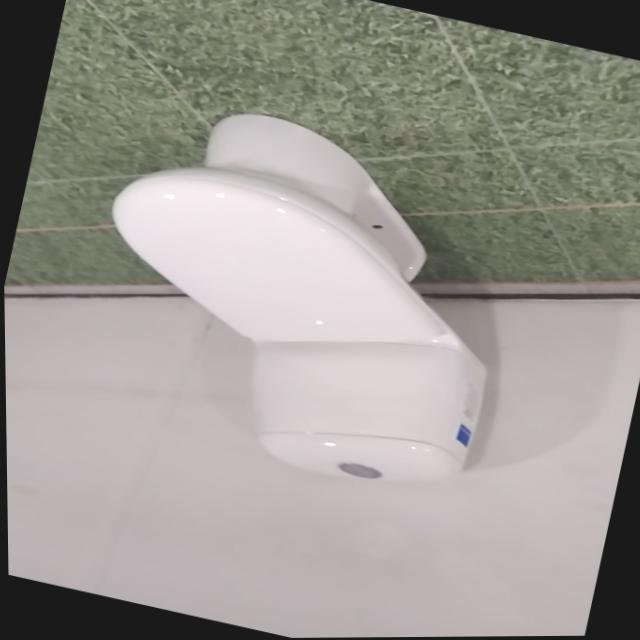toilet: (60, 83, 536, 508)
